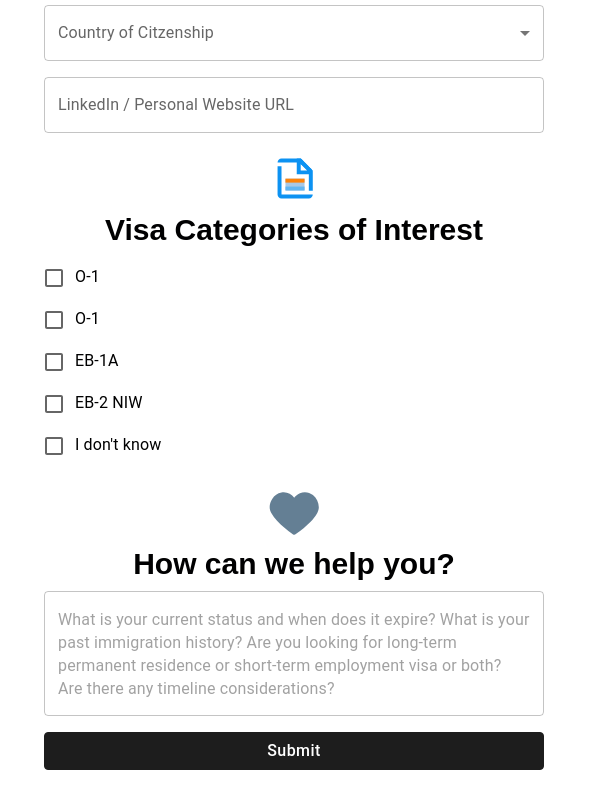
Test: FormAssessment Component › validates required fields
(page scrolled)
Click the button "Submit".
click(294, 751)  # box [44, 732, 544, 770]
(page scrolled)
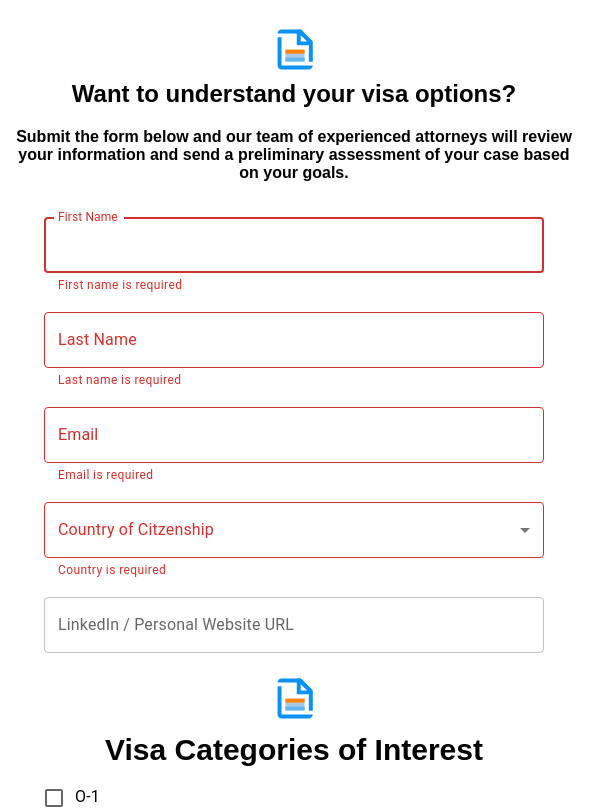
Now the text "First name is required" is shown, box [58, 278, 182, 292]
Now the text "Last name is required" is shown, box [58, 373, 181, 387]
Now the text "Email is required" is shown, box [58, 468, 153, 482]
